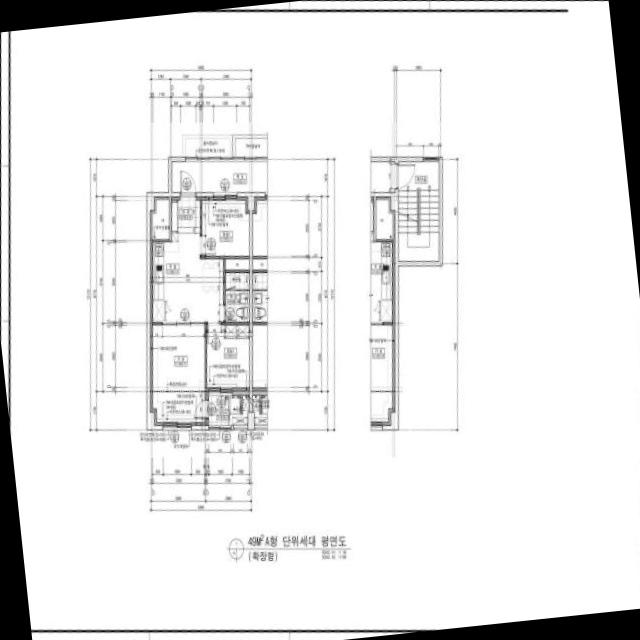background: (0, 0, 640, 640)
space_balconi: (208, 394, 227, 424)
space_bedroom: (201, 196, 248, 255), (206, 324, 248, 390)
space_front: (170, 194, 199, 232)
space_kitchen: (149, 232, 222, 321)
space_living_room: (149, 324, 206, 424)
space_other: (171, 161, 266, 191), (149, 196, 168, 238), (370, 161, 394, 192), (224, 258, 248, 269)
space_outdoor_room: (227, 394, 248, 424)
space_staircase: (397, 161, 438, 260)
space_toilet: (224, 272, 248, 321)
